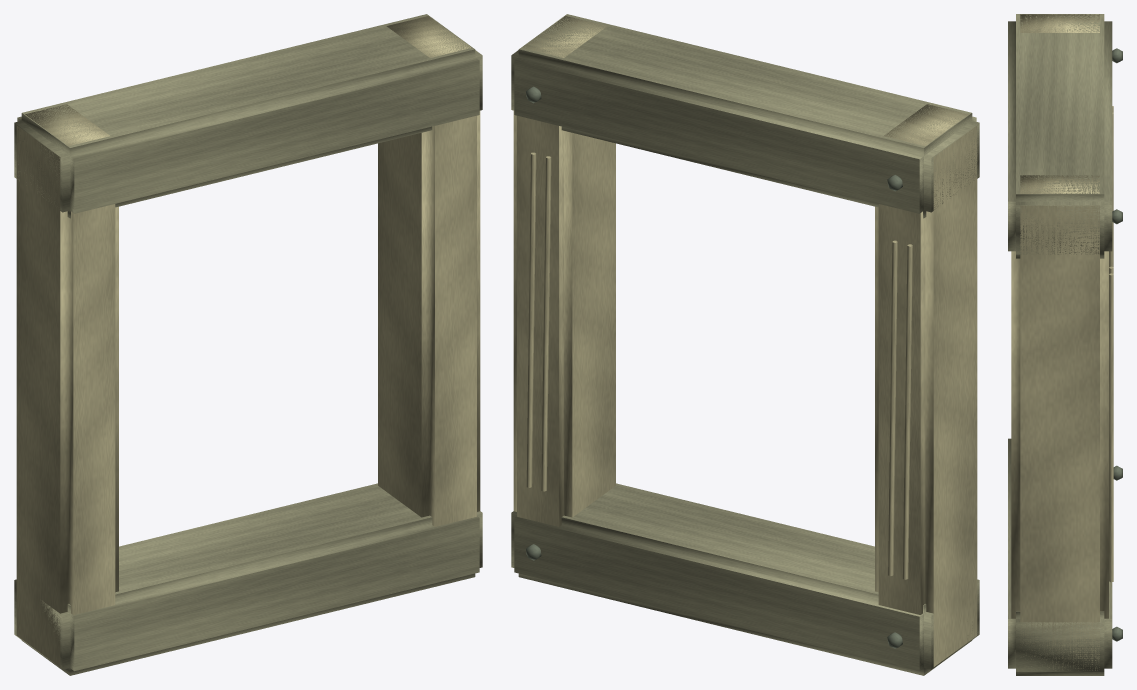
File: timber-doorframe-1.fbx
3 views of the same model, side by side, from view 1: azimuth 30°, elevation 25°; view 2: azimuth 150°, elevation 25°; view 3: azimuth 270°, elevation 25° (orthographic). The views are drawn at different scales.
Visible parts, largest first — view 1: timber-doorframe-1__Geometry; view 2: timber-doorframe-1__Geometry; view 3: timber-doorframe-1__Geometry.
Boxes of the visible parts, x1=… form: timber-doorframe-1__Geometry: x1=14, y1=14, x2=482, y2=675; timber-doorframe-1__Geometry: x1=511, y1=14, x2=979, y2=675; timber-doorframe-1__Geometry: x1=1008, y1=14, x2=1122, y2=675.
Size of the model in its own units: 1 by 1.2 by 0.2591.
1 material, 1 textured.
